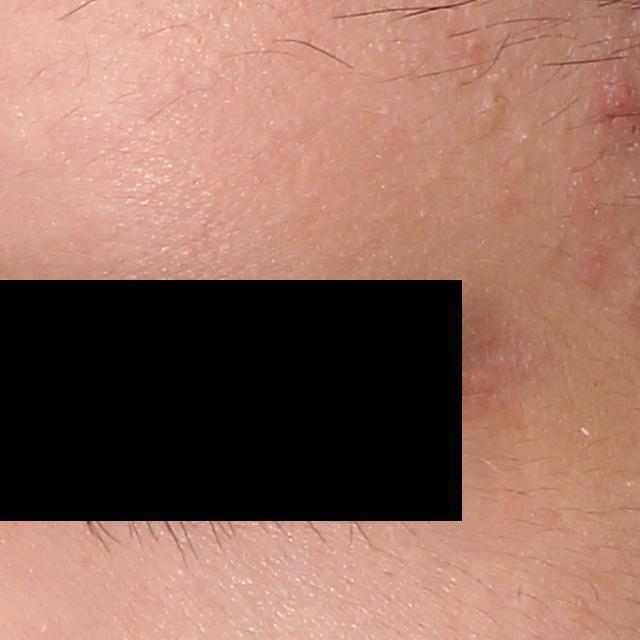papule: (600, 79, 638, 115)
